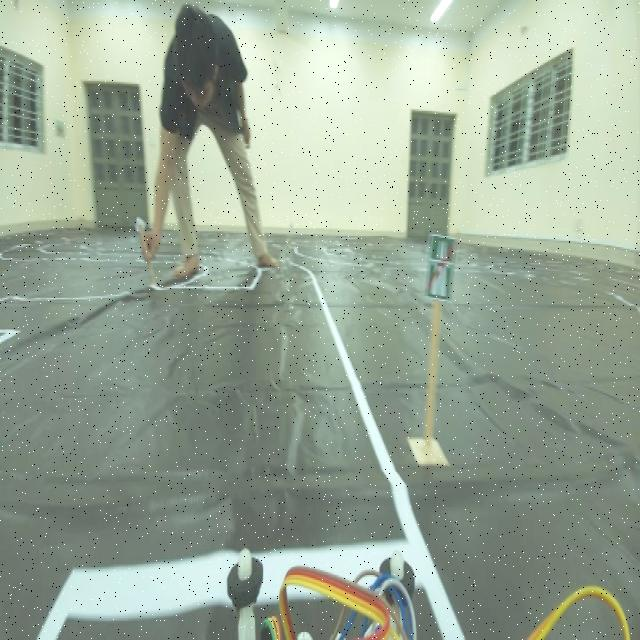highway_exit: (423, 226, 461, 309)
